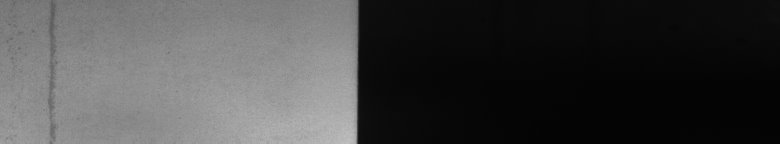hd: (6, 4, 60, 136)
